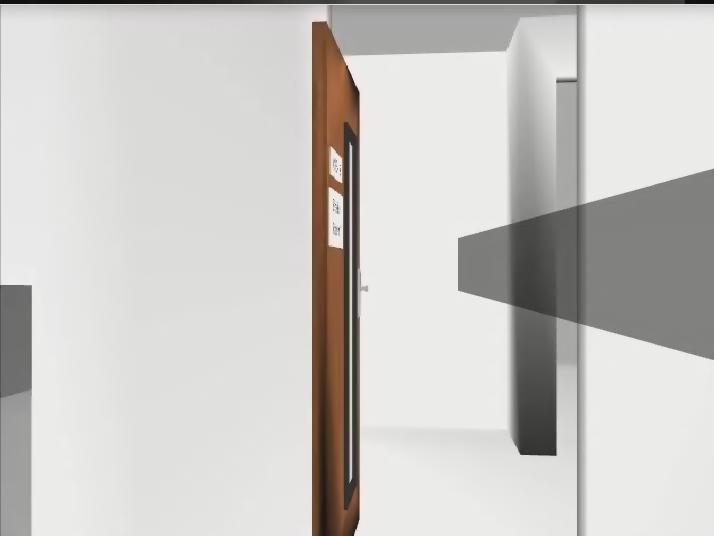door: (312, 22, 369, 536)
